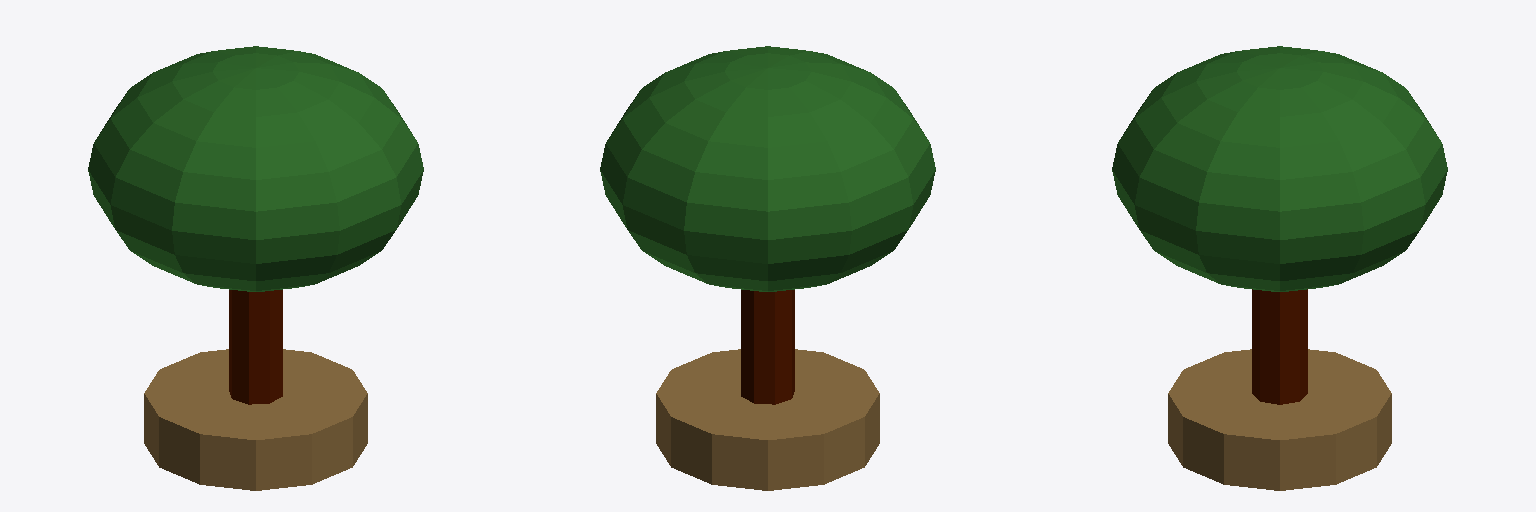
File: vegetation.obj
3 renders of one model, left to right at view 1: azimuth 30°, elevation 25°; view 2: azimuth 150°, elevation 25°; view 3: azimuth 270°, elevation 25°, orthographic.
Parts seen in each view (by area): view 1: Sphere, ground, Cylinder; view 2: Sphere, ground, Cylinder; view 3: Sphere, ground, Cylinder.
Boxes of the visible parts, x1,y1,x2,y2 form: Sphere: [88, 46, 423, 291]; ground: [144, 349, 367, 490]; Cylinder: [229, 290, 282, 404]; Sphere: [600, 46, 935, 291]; ground: [656, 349, 879, 490]; Cylinder: [741, 290, 794, 404]; Sphere: [1112, 46, 1447, 291]; ground: [1168, 349, 1391, 490]; Cylinder: [1252, 289, 1307, 404].
Bounding box in the file's own units: 3.01 × 3.71 × 3.01.